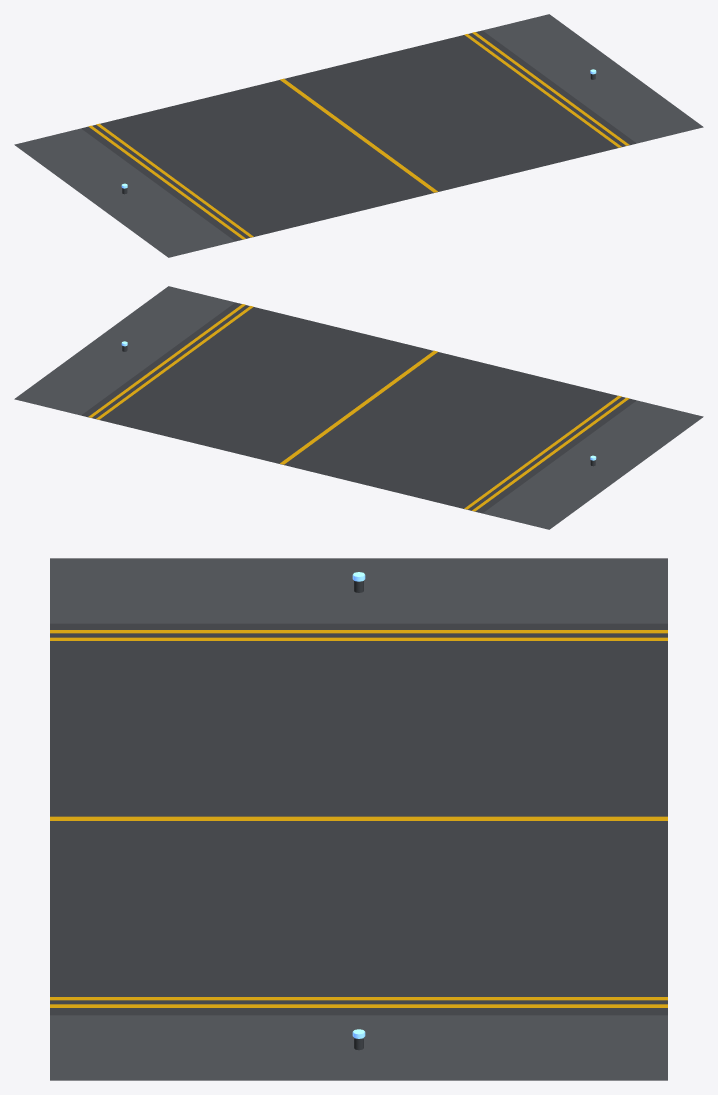
Rendered from pista-taxi.glb.
The picture shows the model from 3 angles, top to bottom: view 1: azimuth 30°, elevation 25°; view 2: azimuth 150°, elevation 25°; view 3: azimuth 270°, elevation 25°; orthographic projection. The views are drawn at different scales.
Visible parts, largest first — view 1: Paredes, Molduras; view 2: Paredes, Molduras; view 3: Paredes, Molduras.
Boxes of the visible parts, x1=… form: Paredes: x1=14, y1=14, x2=703, y2=257; Molduras: x1=88, y1=32, x2=629, y2=239; Paredes: x1=14, y1=286, x2=703, y2=529; Molduras: x1=88, y1=304, x2=629, y2=511; Paredes: x1=50, y1=558, x2=667, y2=1080; Molduras: x1=50, y1=630, x2=667, y2=1007.
Size of the model in its own units: 24 by 0.35 by 12.
